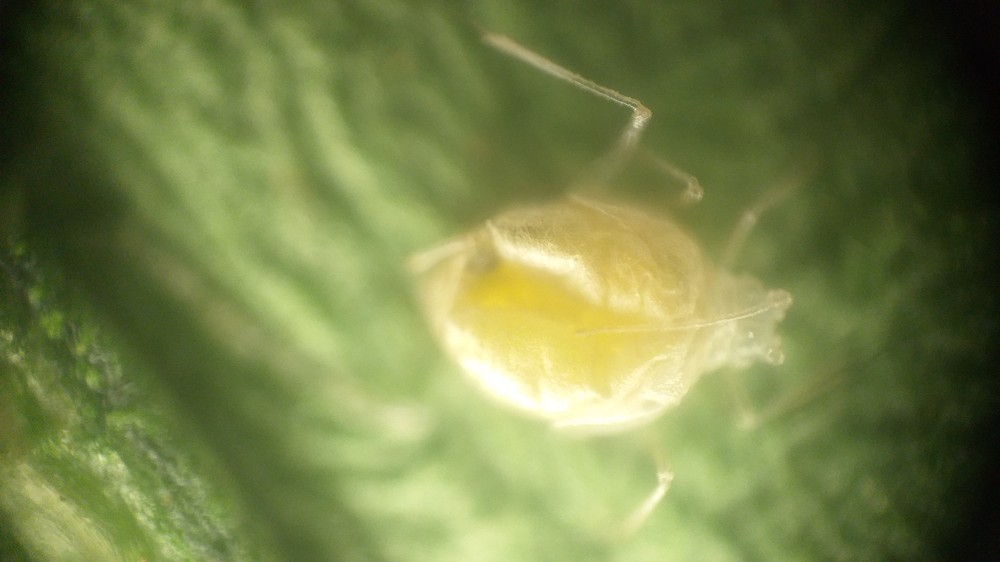Pulgon: (393, 46, 885, 531)
